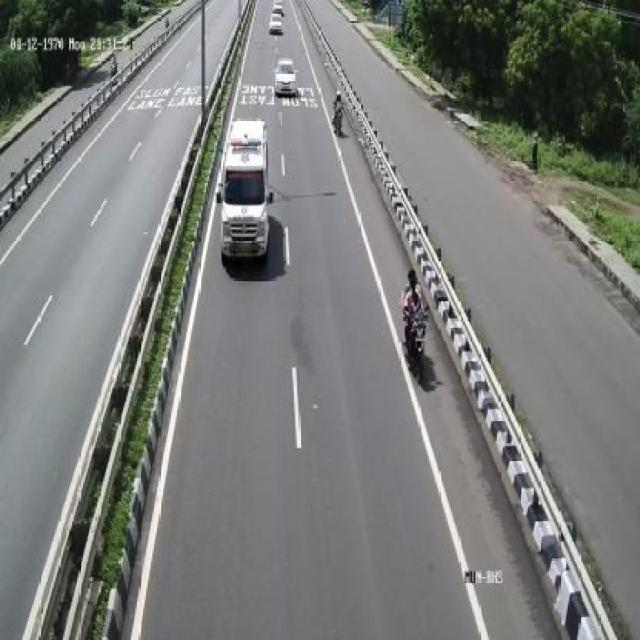car: (275, 52, 300, 100)
